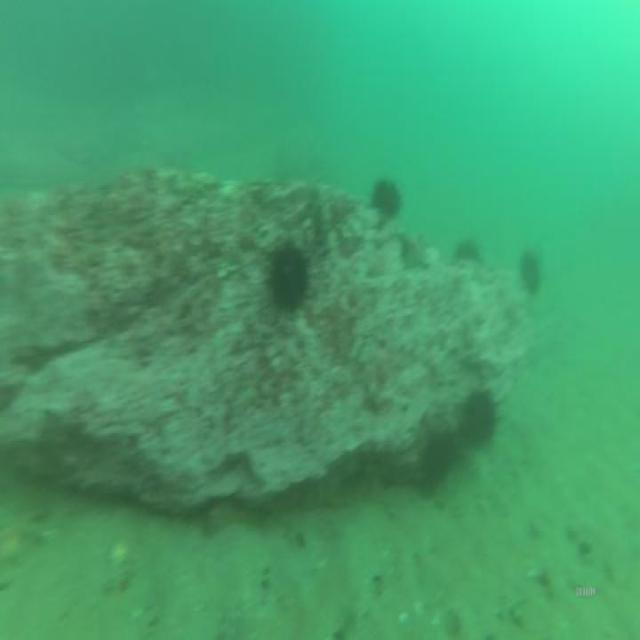echinus: (260, 234, 321, 327), (454, 374, 508, 460), (365, 172, 407, 228), (519, 240, 549, 299), (451, 226, 487, 275)
